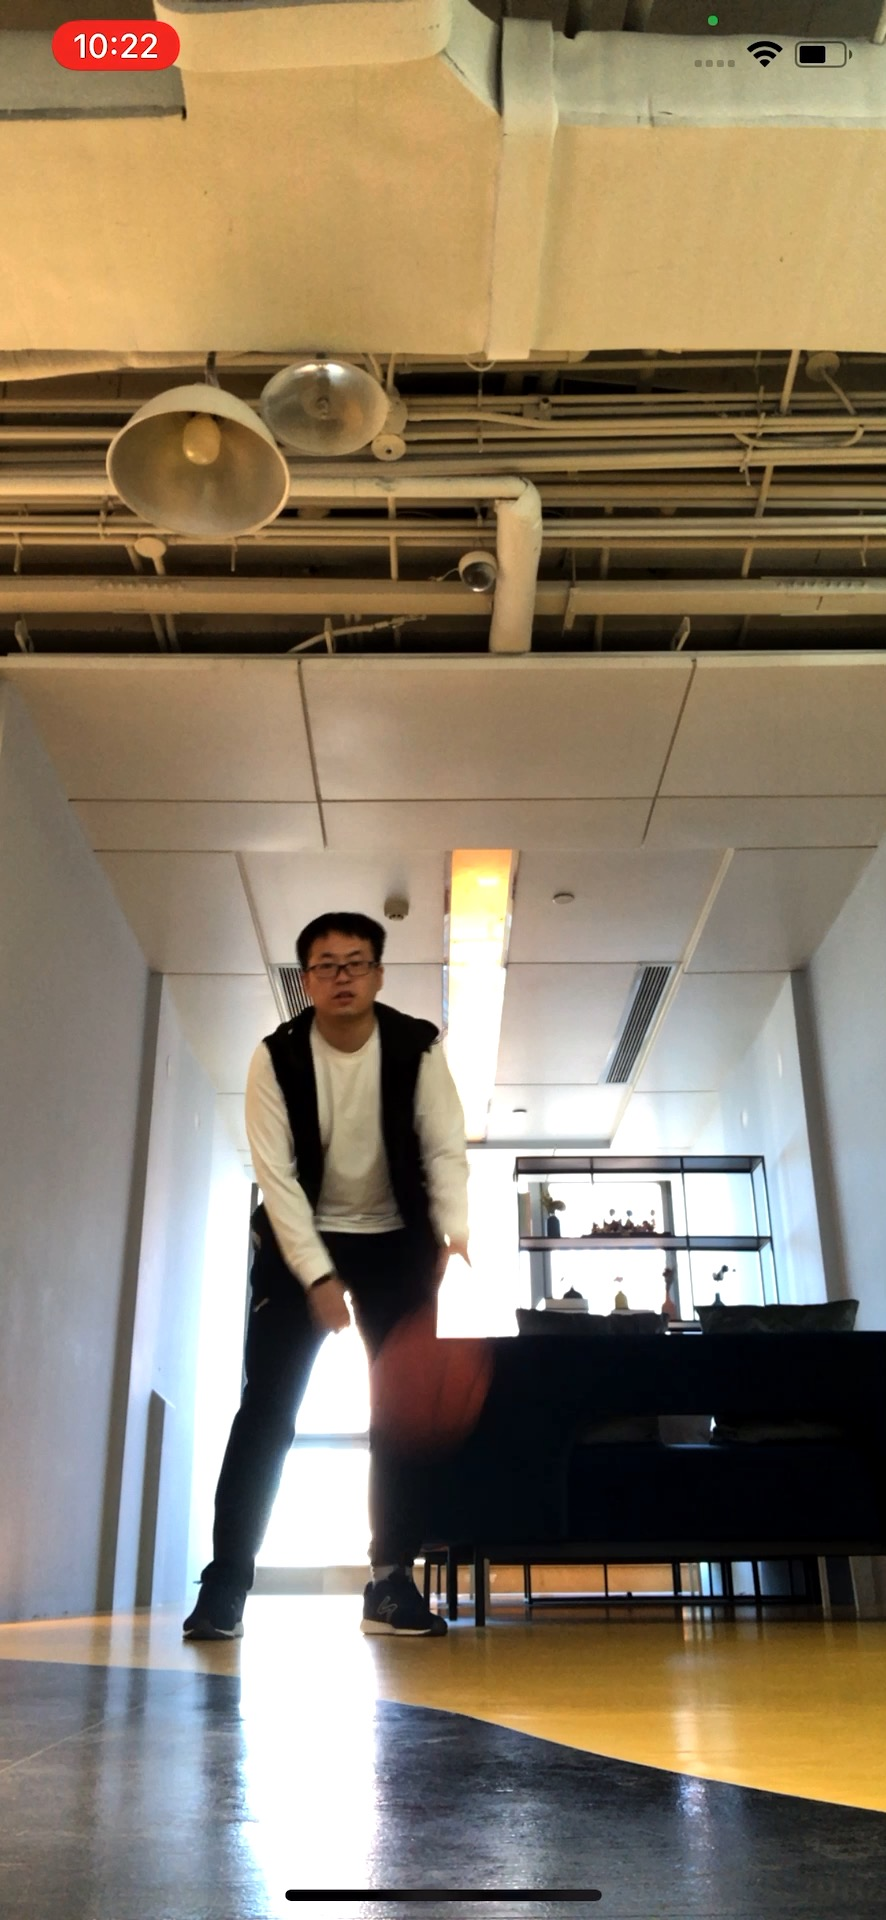ball: (367, 1331, 492, 1439)
